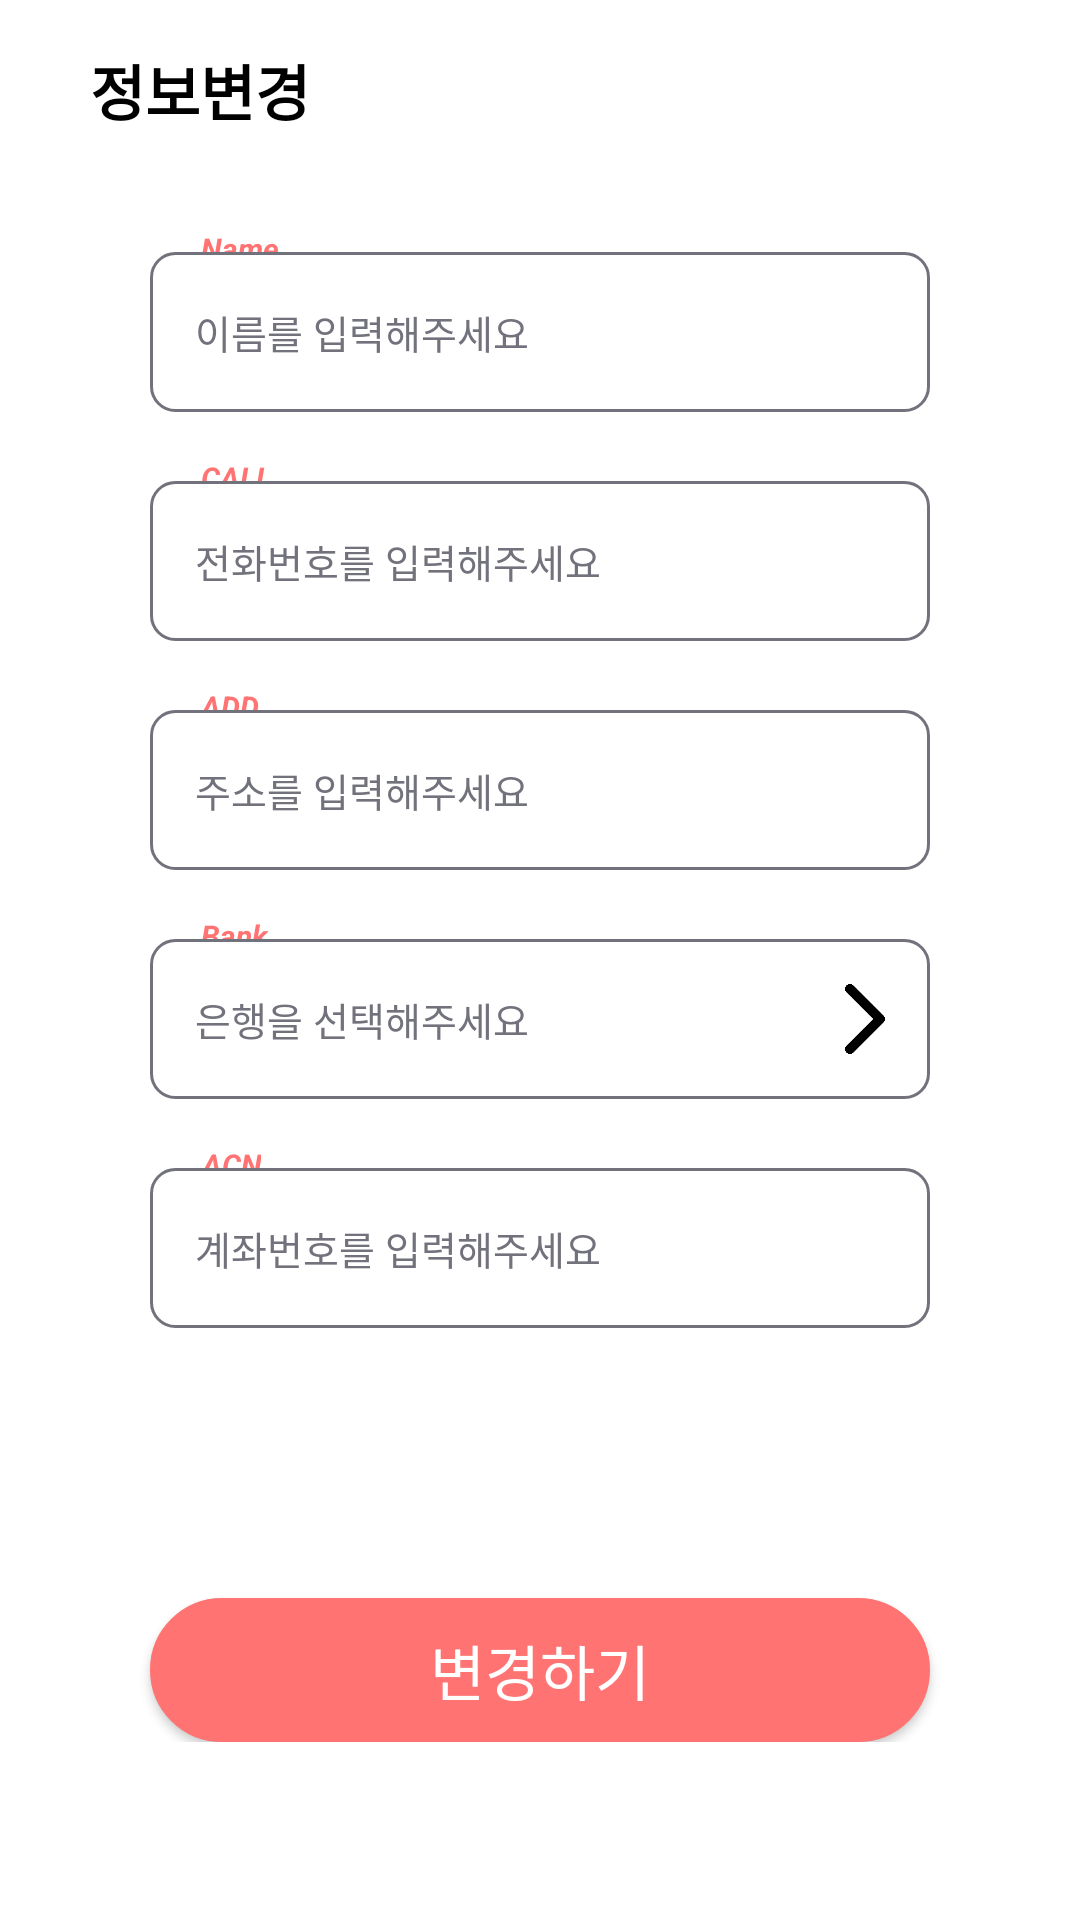

Where to tap for icons on this 1080*1920 app screen, as [x,y]:
forward arrow: [865,1019]
